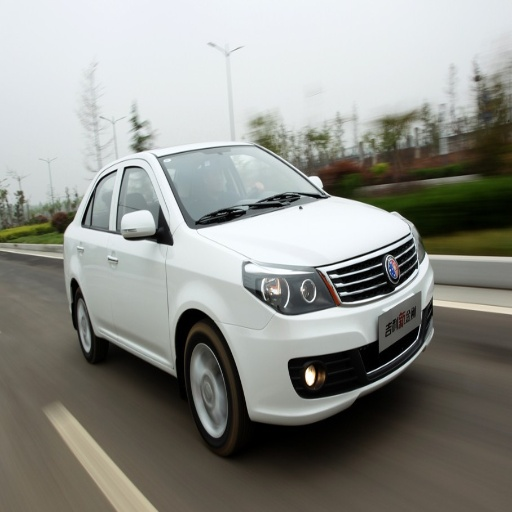front_bumper: (224, 237, 432, 422)
front_right_door: (110, 163, 170, 360)
front_right_light: (243, 261, 336, 313)
